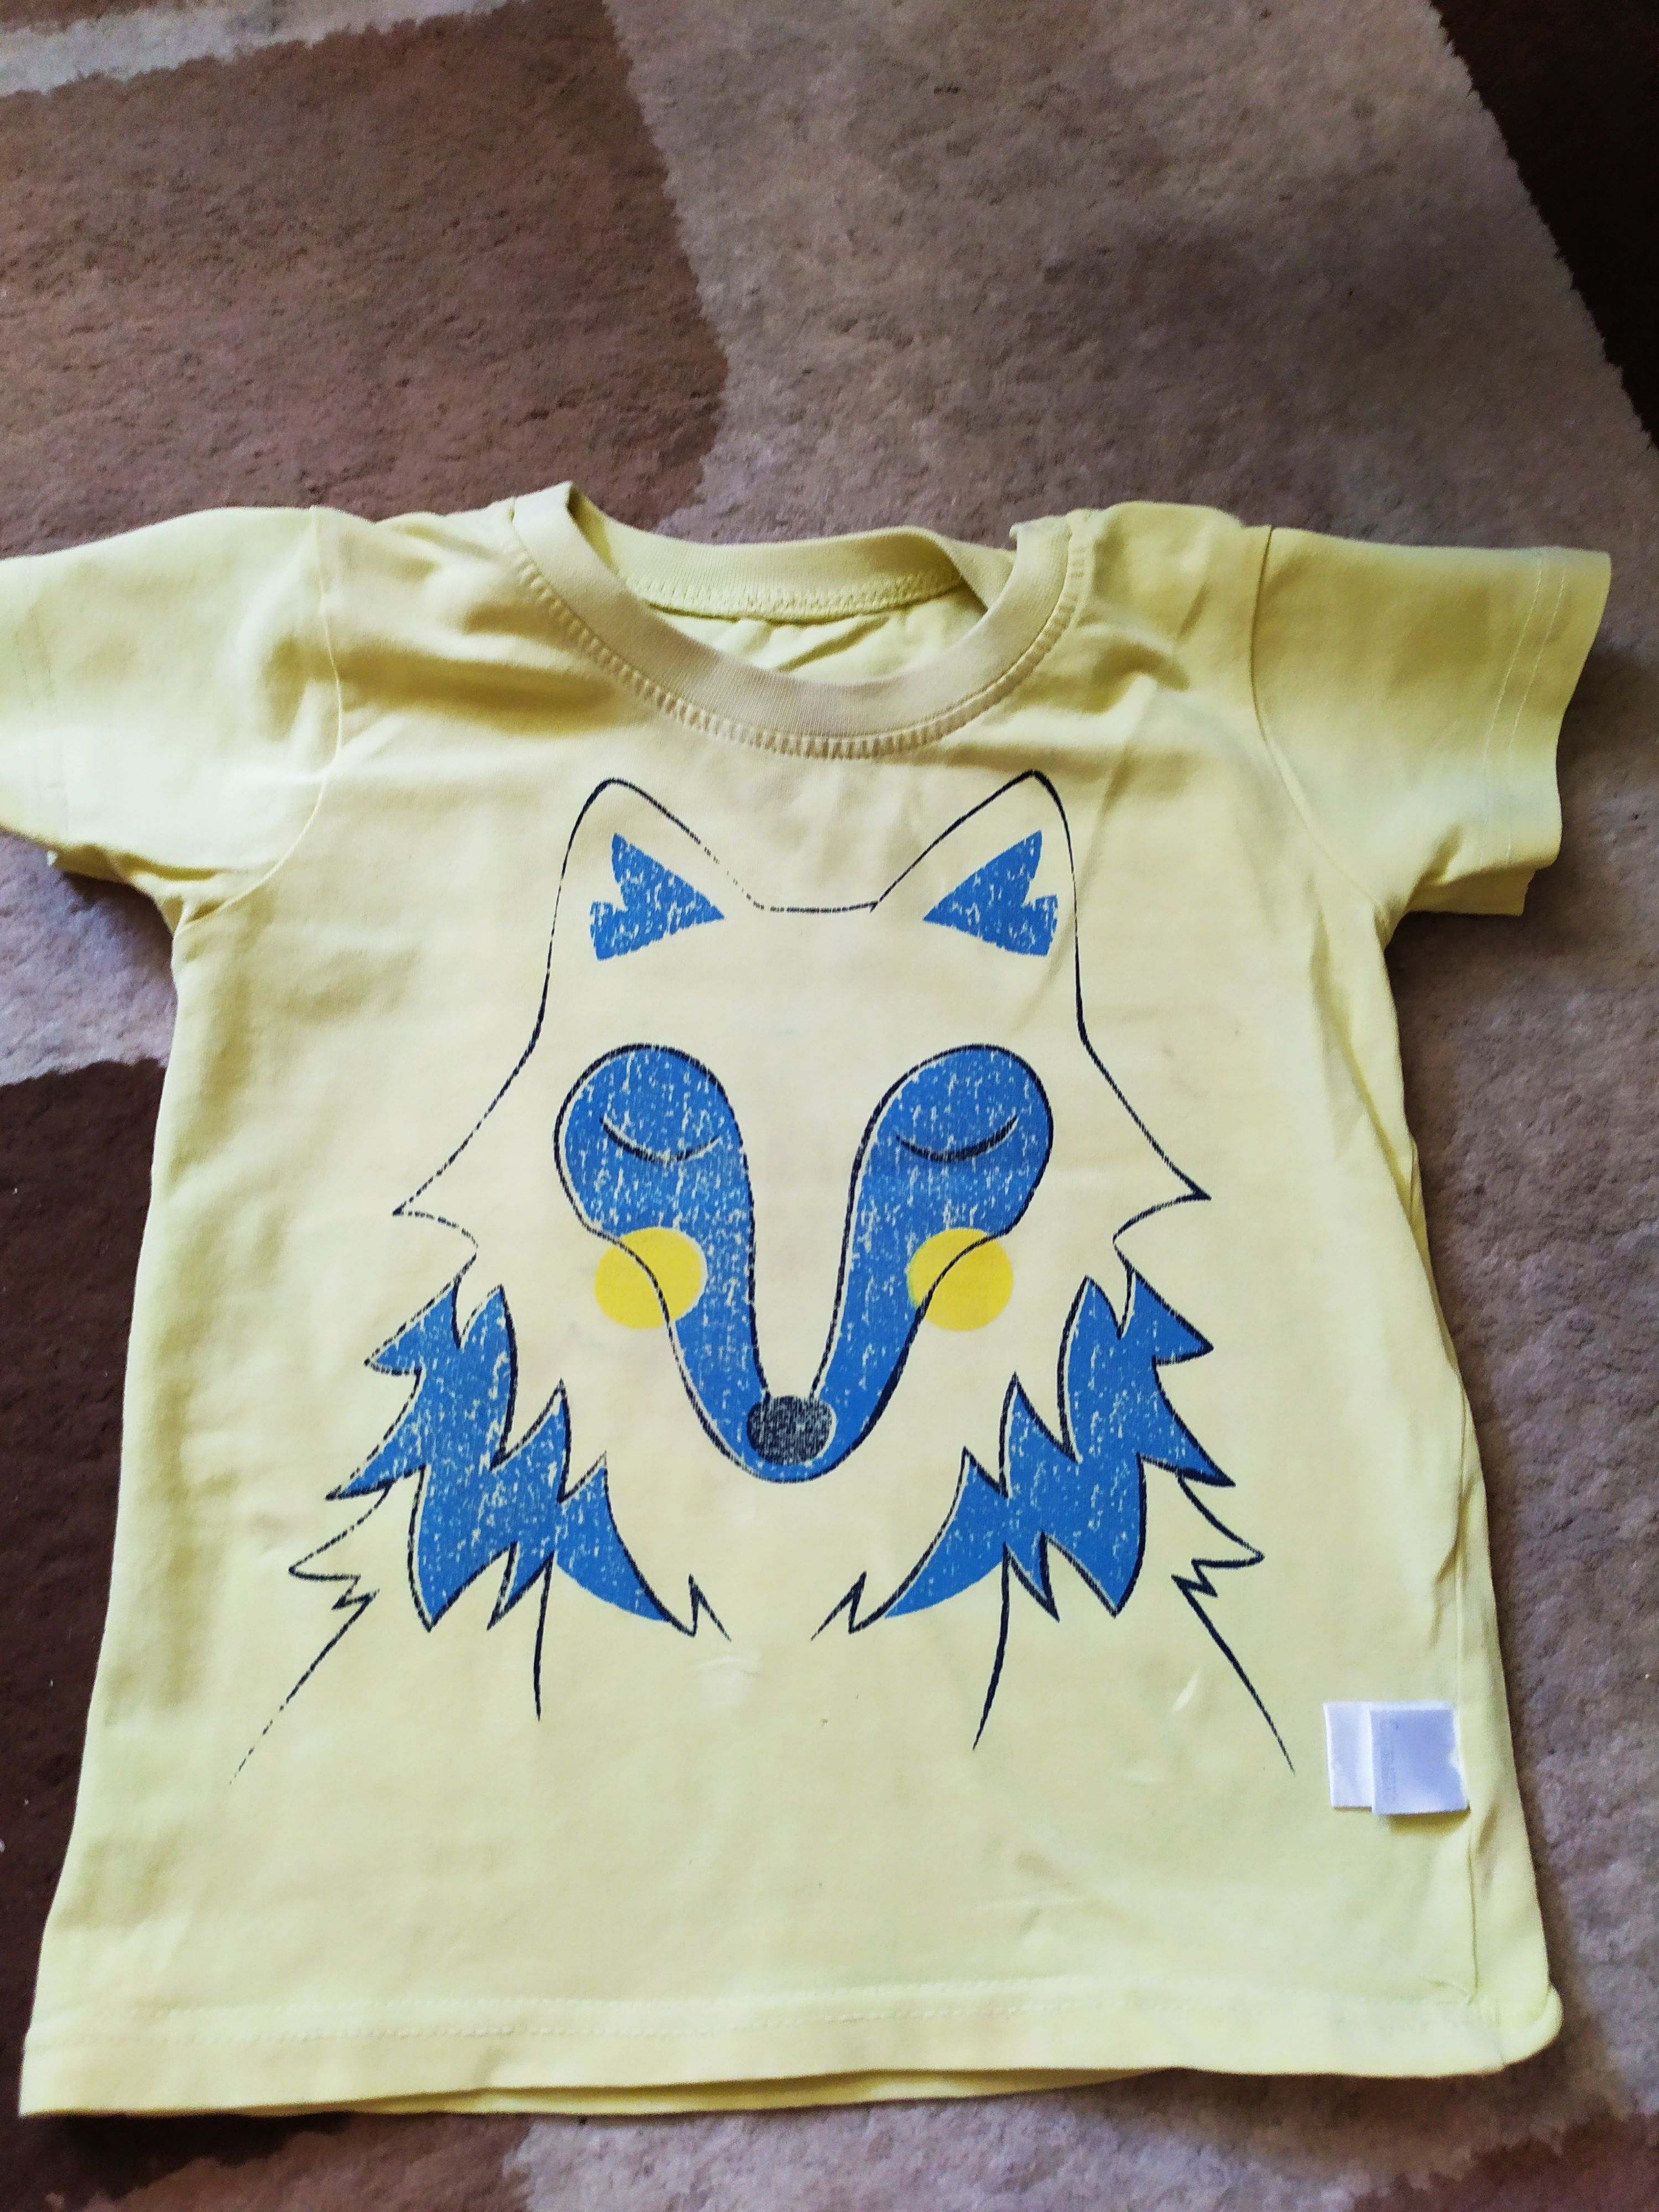clothes: (3, 484, 1598, 2102)
